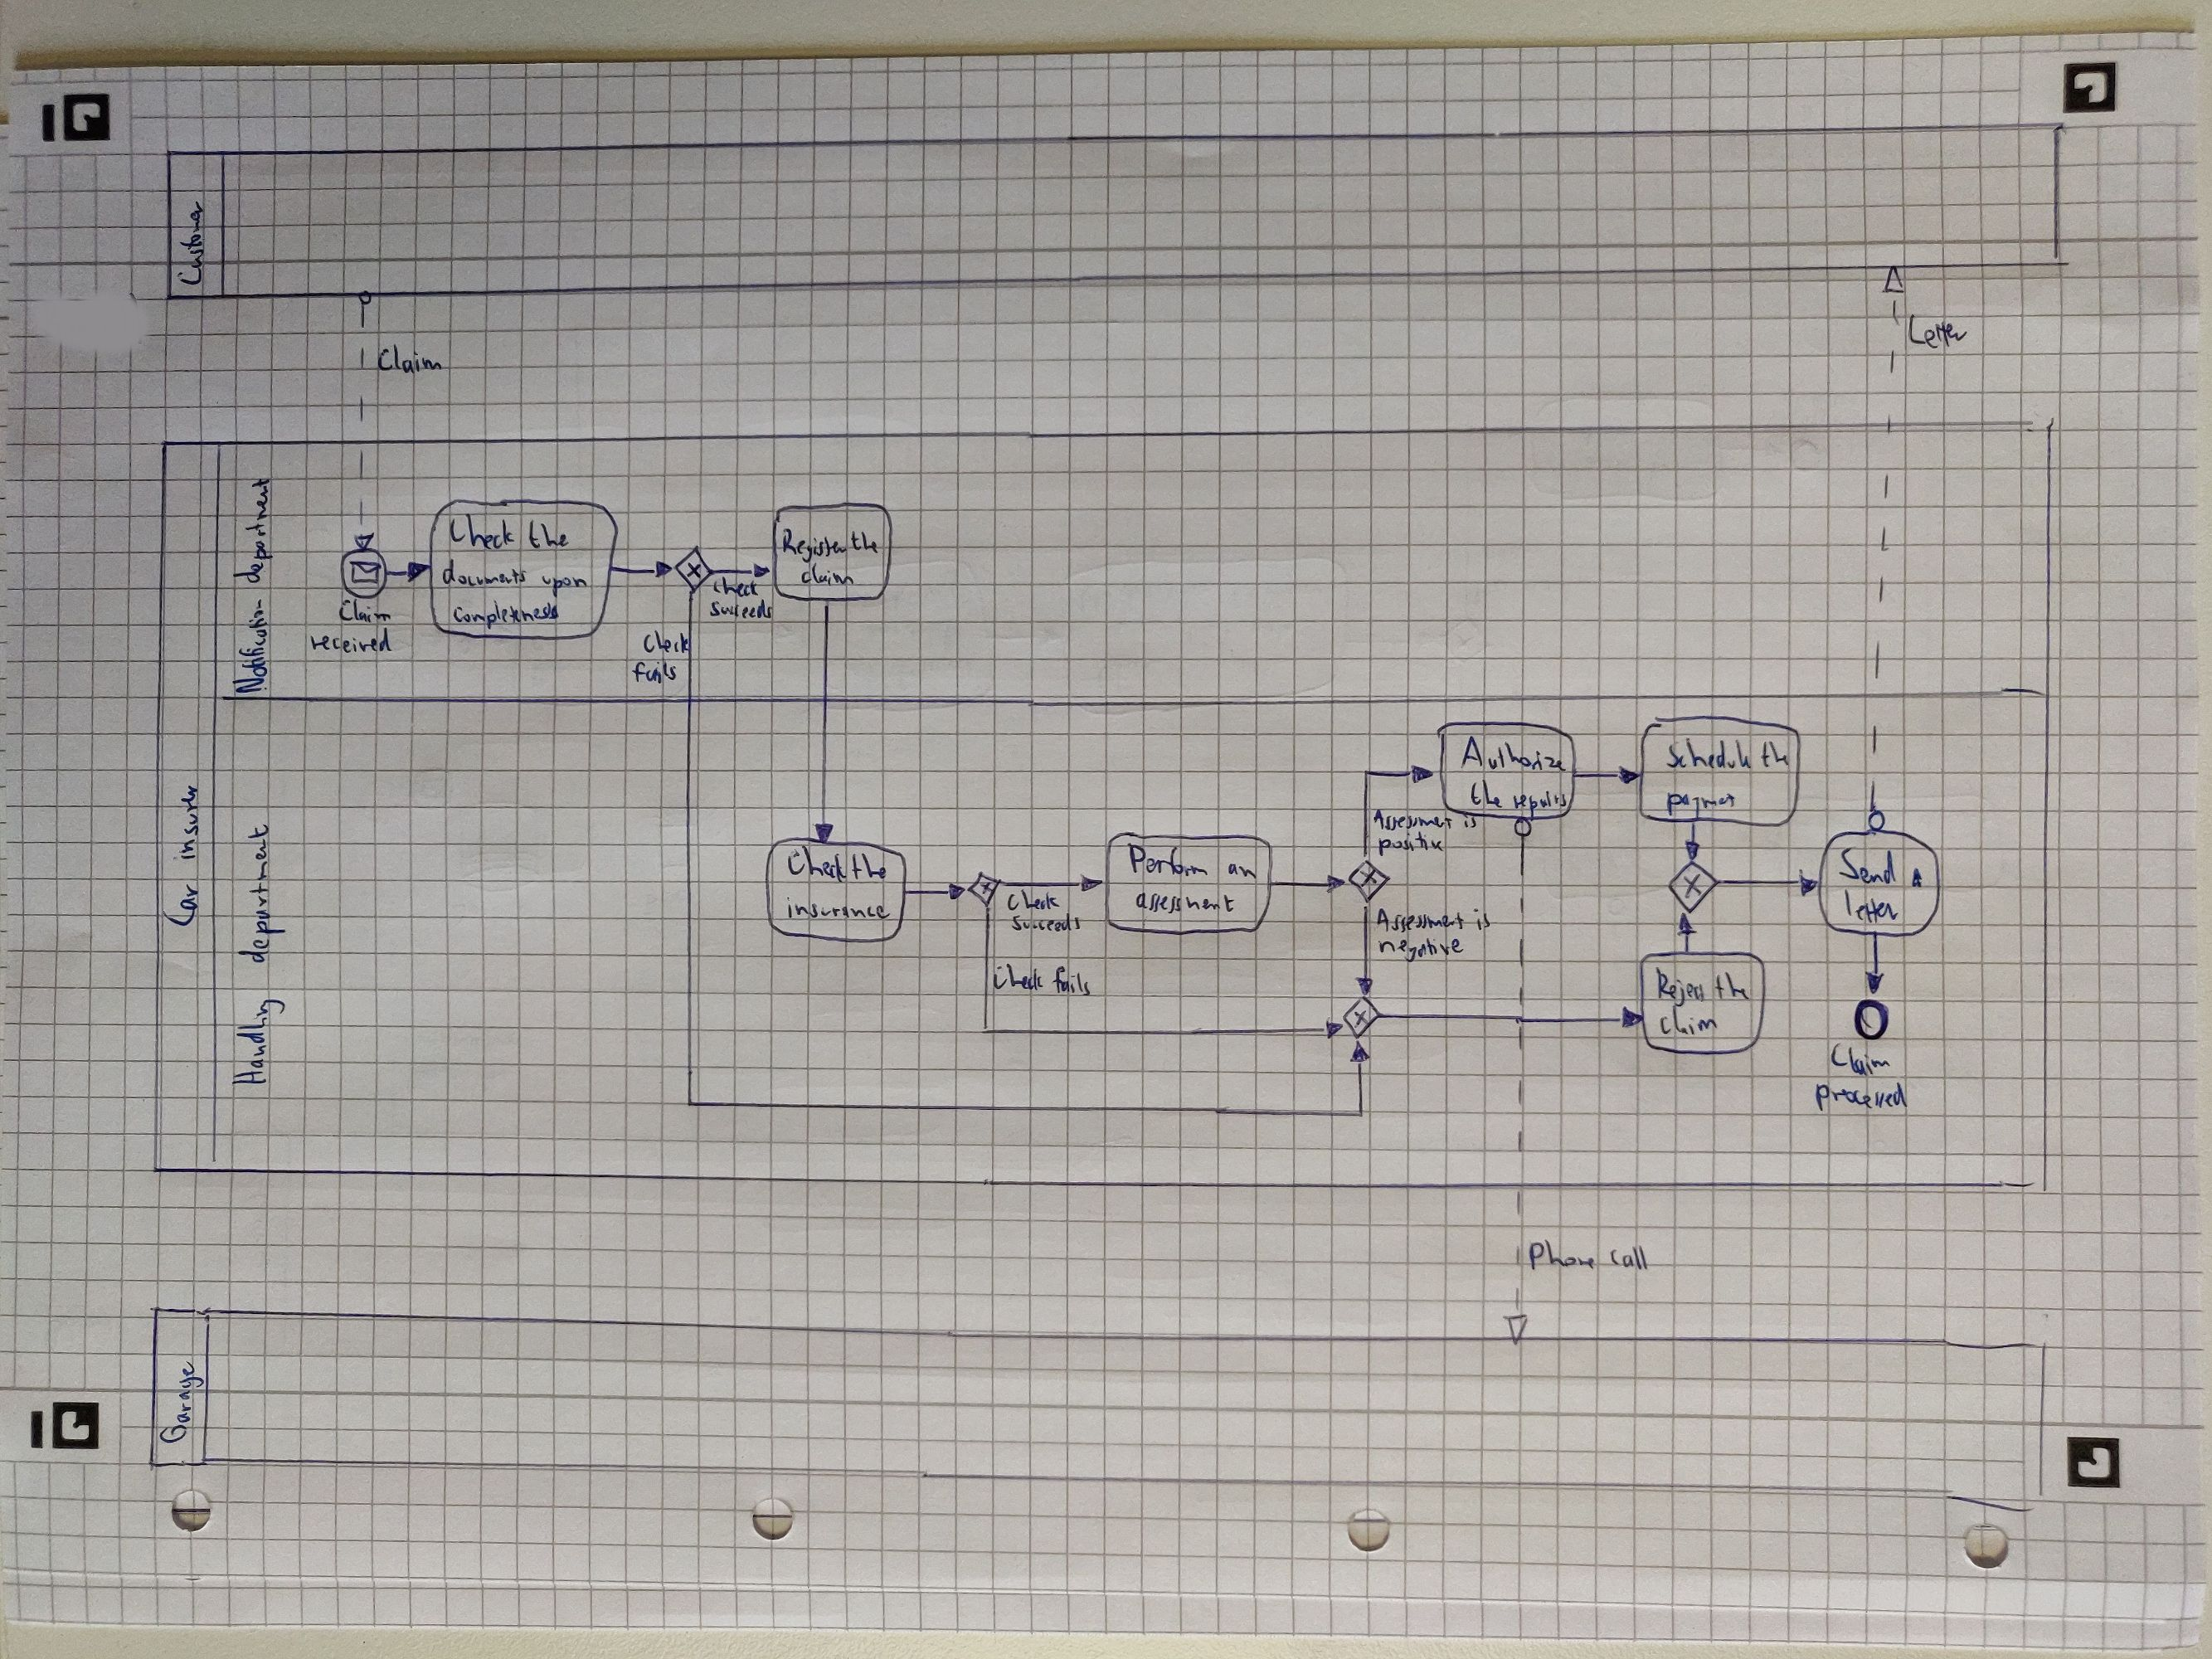Assessment: (1372, 903, 1470, 938), (1369, 805, 1460, 835)
Authorize: (1456, 732, 1569, 777)
Car: (157, 880, 206, 932)
Check: (782, 840, 852, 887), (444, 511, 519, 554), (989, 960, 1049, 995), (637, 626, 695, 657)
Claim: (371, 338, 446, 380), (1825, 1039, 1895, 1082), (334, 596, 397, 627)
Completeness: (449, 596, 564, 634)
Customer: (172, 195, 211, 293)
Garage: (153, 1356, 209, 1450)
Handling: (225, 995, 291, 1091)
Letter: (1904, 308, 1973, 354)
Notification: (226, 594, 273, 699)
Perform: (1122, 840, 1212, 884)
Phone: (1526, 1237, 1602, 1276)
Register: (779, 525, 852, 568)
Reject: (1651, 962, 1710, 1011)
Schedule: (1663, 735, 1757, 775)
Send: (1834, 843, 1902, 890)
Succeeds: (1005, 910, 1087, 938), (705, 598, 777, 622)
a: (1904, 861, 1928, 894)
an: (1223, 857, 1263, 884)
assessment: (1130, 887, 1242, 920)
call: (1604, 1243, 1653, 1276)
check: (1000, 885, 1066, 915), (707, 572, 763, 601)
claim: (1655, 1000, 1723, 1040), (796, 558, 859, 589)
department: (232, 816, 291, 969), (226, 474, 279, 589)
documents: (437, 554, 533, 592)
fails: (1049, 964, 1097, 1002), (629, 657, 683, 688)
insurance: (780, 892, 897, 925)
insurer: (169, 779, 204, 868)
is: (1470, 904, 1496, 934), (1460, 809, 1480, 833)
letter: (1838, 885, 1904, 927)
negative: (1374, 934, 1468, 967)
payment: (1662, 788, 1742, 824)
positive: (1374, 829, 1449, 863)
processed: (1810, 1077, 1914, 1119)
received: (305, 622, 397, 657)
repairs: (1508, 788, 1571, 826)
the: (523, 514, 575, 554), (1709, 967, 1756, 1007), (846, 850, 892, 885), (1465, 777, 1507, 812), (1756, 737, 1794, 772), (848, 526, 883, 558)
upon: (536, 570, 592, 603)
